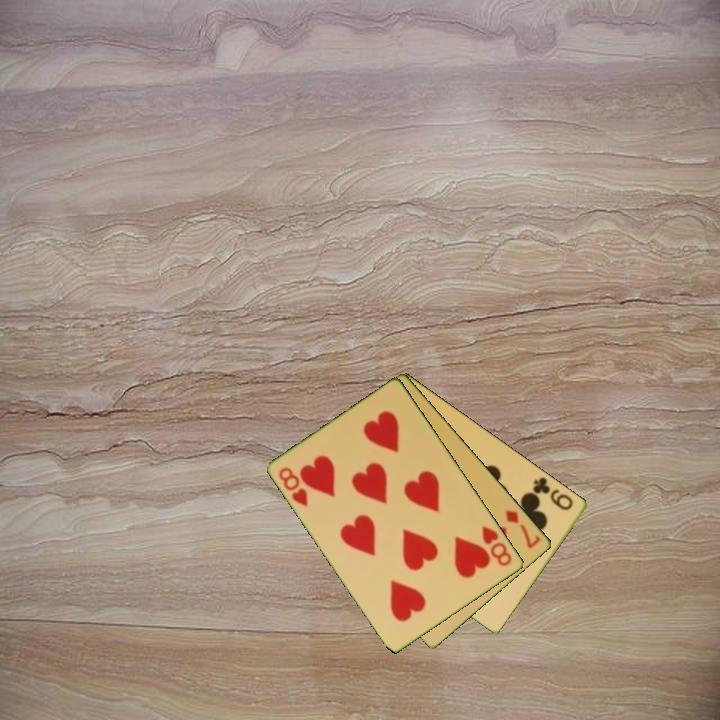7d: (502, 506, 544, 551)
8h: (275, 463, 312, 510), (479, 522, 515, 569)
9c: (530, 473, 576, 513)
